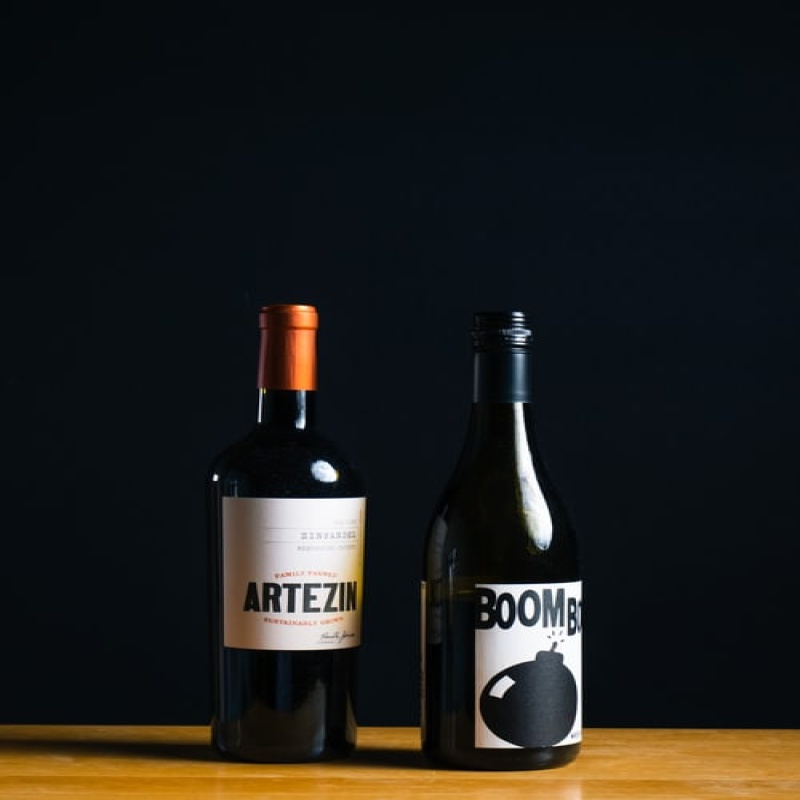wine: (419, 307, 592, 764), (209, 298, 362, 750)
